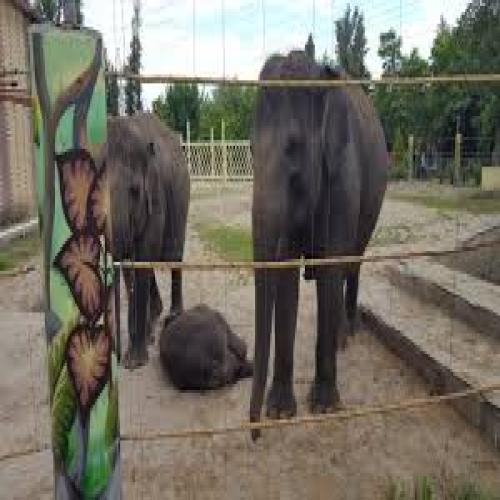asian_elephant-endangered: (246, 51, 389, 439), (108, 111, 190, 368)
